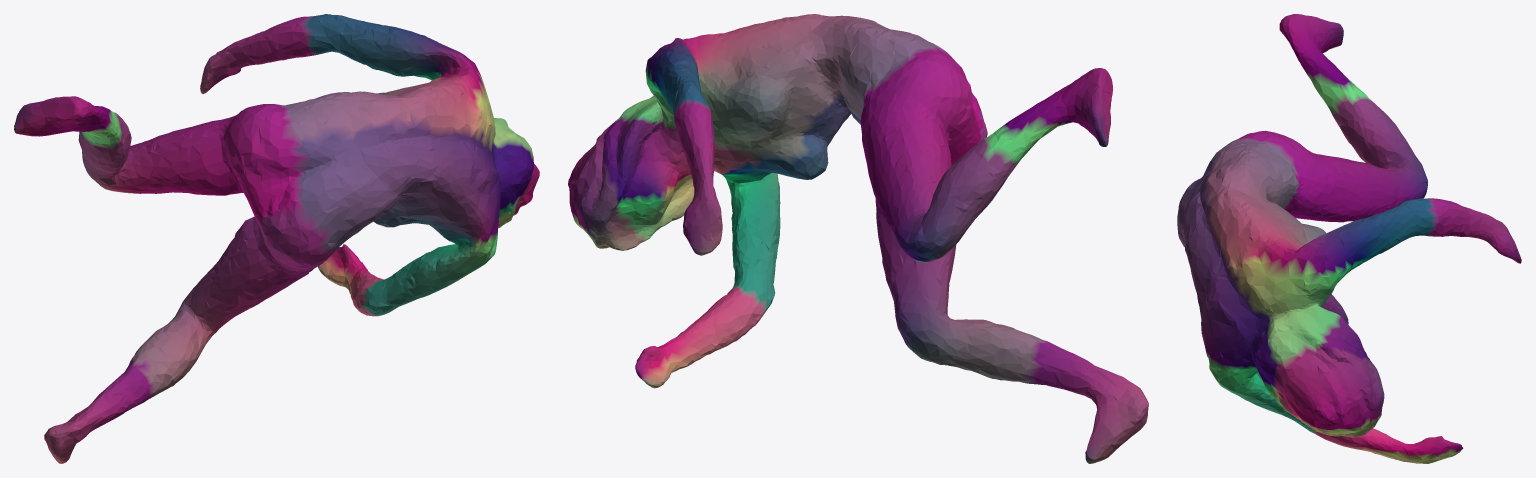
Rendered from woman-19.off.obj.
3 views of the same model, side by side, from view 1: azimuth 30°, elevation 25°; view 2: azimuth 150°, elevation 25°; view 3: azimuth 270°, elevation 25° (orthographic). The views are drawn at different scales.
Bounding box in the file's own units: 1.41 × 0.9544 × 0.8953.
